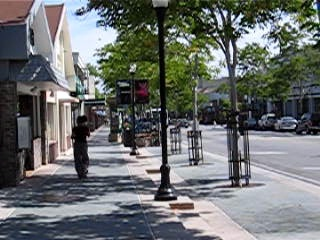person: (73, 115, 93, 180), (72, 115, 92, 180), (74, 115, 94, 180), (73, 114, 93, 179), (73, 116, 93, 181)
target_negative: (107, 137, 277, 190), (124, 39, 201, 111), (93, 101, 284, 107), (242, 165, 317, 168), (302, 125, 309, 143)
